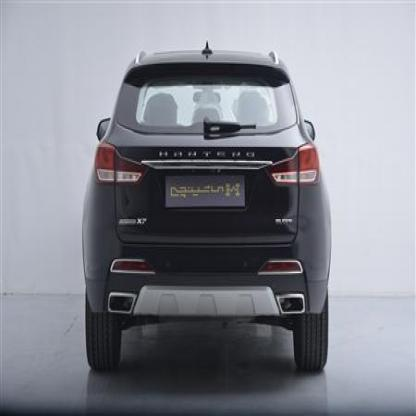Car: (76, 37, 336, 380)
